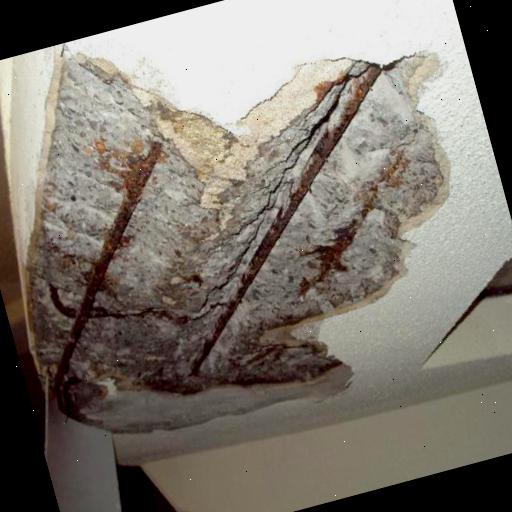spalling: (29, 46, 455, 433)
